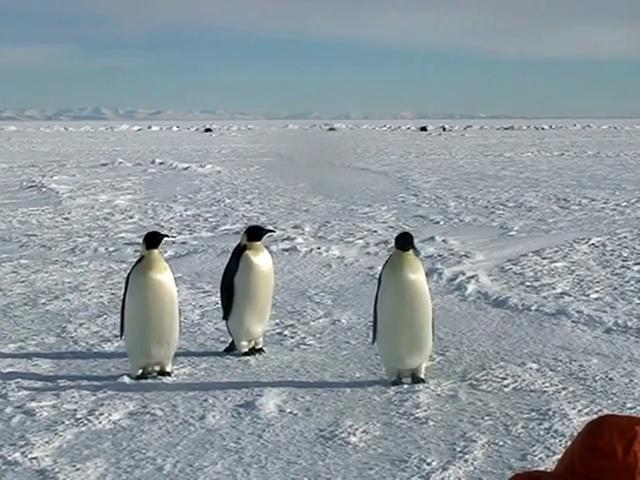animal: (374, 232, 435, 385)
